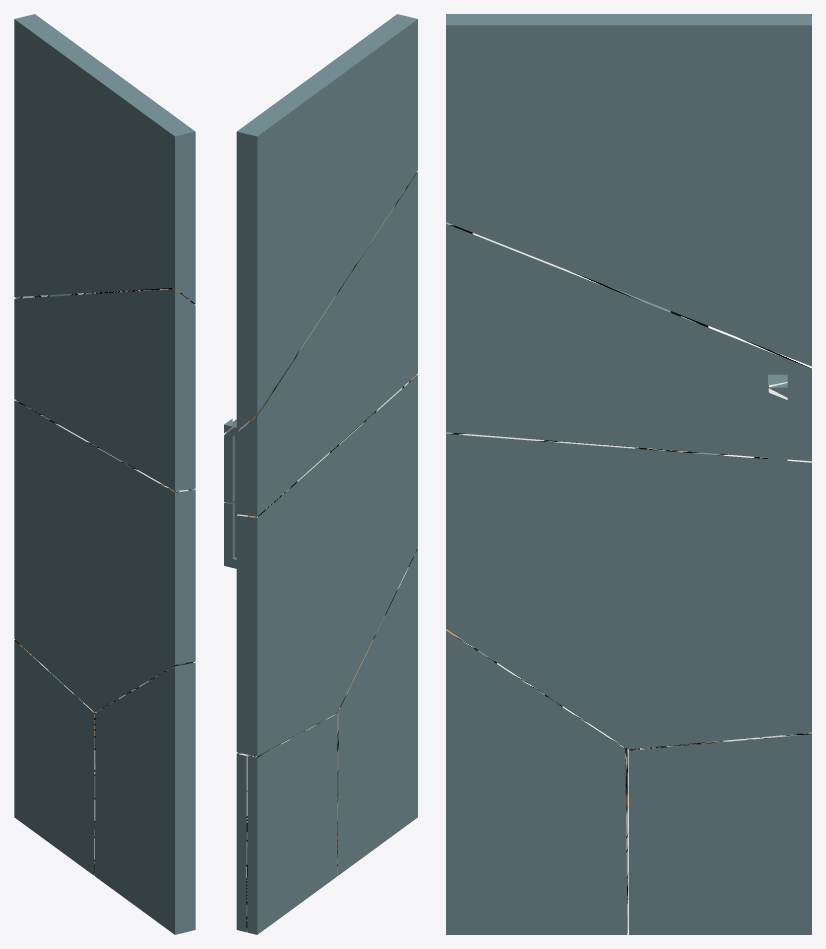
The model's file is Cabinet_Big_Door.001_cell.fbx.
3 renders of one model, left to right at view 1: azimuth 30°, elevation 25°; view 2: azimuth 150°, elevation 25°; view 3: azimuth 270°, elevation 25°, orthographic. The views are drawn at different scales.
Visible parts, largest first — view 1: Cabinet_Big_Door.001_cell.007, Cabinet_Big_Door.001_cell.001, Cabinet_Big_Door.001_cell.008, Cabinet_Big_Door.001_cell, Cabinet_Big_Door.001_cell.003; view 2: Cabinet_Big_Door.001_cell.001, Cabinet_Big_Door.001_cell.007, Cabinet_Big_Door.001_cell.008, Cabinet_Big_Door.001_cell, Cabinet_Big_Door.001_cell.003, Cabinet_Big_Door.001_cell.005, Cabinet_Big_Door.001_cell.004, Cabinet_Big_Door.001_cell.002; view 3: Cabinet_Big_Door.001_cell.001, Cabinet_Big_Door.001_cell.007, Cabinet_Big_Door.001_cell.008, Cabinet_Big_Door.001_cell, Cabinet_Big_Door.001_cell.005, Cabinet_Big_Door.001_cell.004, Cabinet_Big_Door.001_cell.002.
Boxes of the visible parts, box(x1,y1,x2,y2) form: Cabinet_Big_Door.001_cell.007: box(14, 400, 195, 712); Cabinet_Big_Door.001_cell.001: box(14, 14, 195, 304); Cabinet_Big_Door.001_cell.008: box(14, 289, 195, 490); Cabinet_Big_Door.001_cell: box(95, 662, 195, 934); Cabinet_Big_Door.001_cell.003: box(14, 640, 96, 875); Cabinet_Big_Door.001_cell.001: box(236, 14, 417, 430); Cabinet_Big_Door.001_cell.007: box(236, 375, 417, 756); Cabinet_Big_Door.001_cell.008: box(236, 172, 417, 516); Cabinet_Big_Door.001_cell: box(336, 548, 417, 875); Cabinet_Big_Door.001_cell.003: box(247, 713, 337, 934); Cabinet_Big_Door.001_cell.005: box(236, 752, 248, 932); Cabinet_Big_Door.001_cell.004: box(224, 419, 238, 502); Cabinet_Big_Door.001_cell.002: box(224, 501, 237, 568); Cabinet_Big_Door.001_cell.001: box(446, 14, 811, 366); Cabinet_Big_Door.001_cell.007: box(446, 432, 811, 749); Cabinet_Big_Door.001_cell.008: box(446, 222, 811, 461); Cabinet_Big_Door.001_cell: box(446, 629, 628, 934); Cabinet_Big_Door.001_cell.005: box(629, 732, 811, 934); Cabinet_Big_Door.001_cell.004: box(768, 374, 787, 475); Cabinet_Big_Door.001_cell.002: box(768, 474, 787, 548).
Size of the model in its own units: 7.35 by 128 by 46.56.
